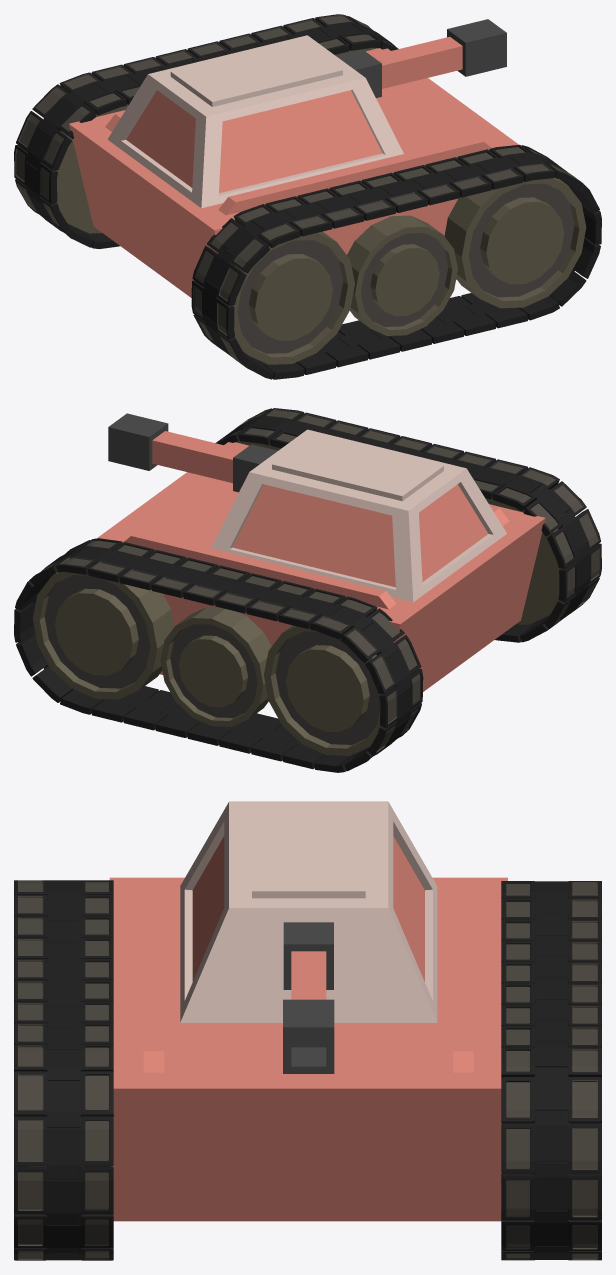
The model's file is ArmoredTank.fbx.
3 renders of one model, top to bottom at view 1: azimuth 30°, elevation 25°; view 2: azimuth 150°, elevation 25°; view 3: azimuth 270°, elevation 25°, orthographic. The views are drawn at different scales.
Parts seen in each view (by area): view 1: Cube.013, Cube.011, Cube.010, Cube.012, Cylinder.017, Cylinder.018, Cylinder.019, Cube.014, Cylinder.020; view 2: Cube.013, Cube.012, Cube.010, Cube.011, Cylinder.021, Cylinder.020, Cylinder.022, Cube.014, Cylinder.018; view 3: Cube.010, Cube.013, Cube.012, Cube.011, Cube.014.
Boxes of the visible parts, x1=… form: Cube.013: x1=107, y1=35, x2=403, y2=208; Cube.011: x1=191, y1=144, x2=601, y2=379; Cube.010: x1=69, y1=48, x2=518, y2=297; Cube.012: x1=14, y1=14, x2=398, y2=248; Cylinder.017: x1=444, y1=177, x2=586, y2=308; Cylinder.018: x1=230, y1=231, x2=354, y2=364; Cylinder.019: x1=347, y1=215, x2=457, y2=335; Cube.014: x1=337, y1=19, x2=506, y2=97; Cylinder.020: x1=56, y1=104, x2=128, y2=233; Cube.013: x1=211, y1=429, x2=506, y2=602; Cube.012: x1=14, y1=538, x2=423, y2=772; Cube.010: x1=97, y1=442, x2=545, y2=691; Cube.011: x1=215, y1=408, x2=601, y2=642; Cylinder.021: x1=33, y1=571, x2=174, y2=699; Cylinder.020: x1=264, y1=625, x2=380, y2=755; Cylinder.022: x1=160, y1=606, x2=271, y2=726; Cube.014: x1=108, y1=413, x2=277, y2=492; Cylinder.018: x1=485, y1=498, x2=564, y2=624; Cube.010: x1=109, y1=877, x2=507, y2=1221; Cube.013: x1=180, y1=801, x2=437, y2=1022; Cube.012: x1=501, y1=881, x2=601, y2=1260; Cube.011: x1=14, y1=880, x2=113, y2=1260; Cube.014: x1=283, y1=922, x2=334, y2=1073.
Bounding box in the file's own units: 197 × 105 × 194.
